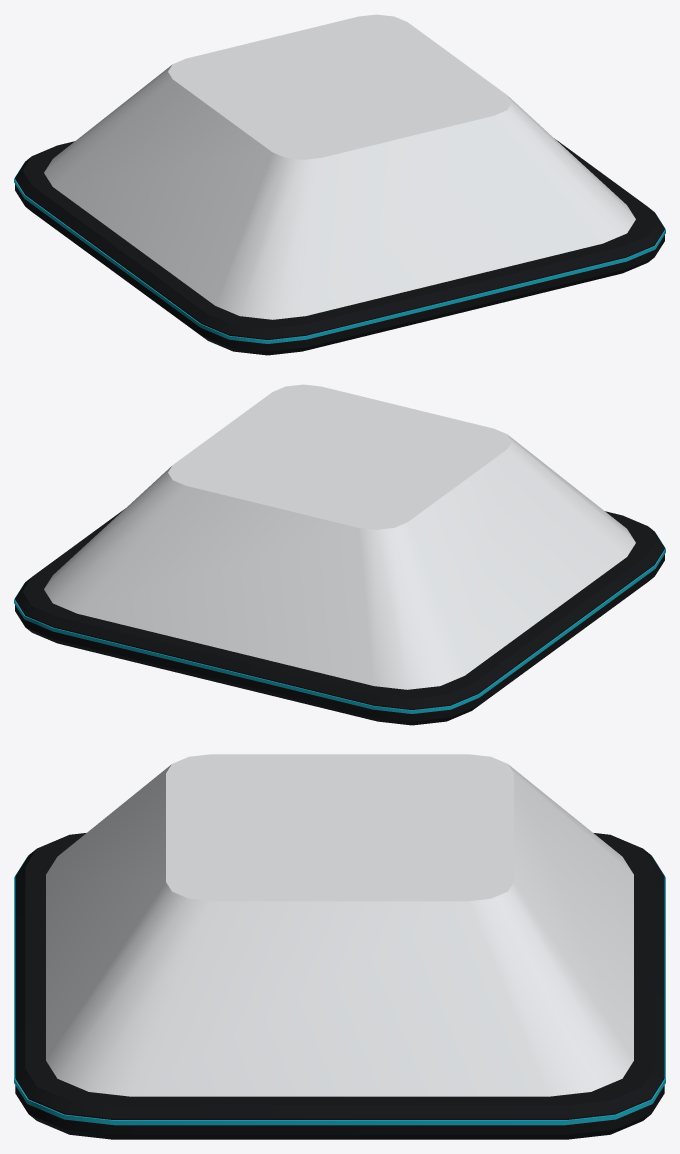
The model's file is n2_housing.obj.
3 renders of one model, top to bottom at view 1: azimuth 30°, elevation 25°; view 2: azimuth 150°, elevation 25°; view 3: azimuth 270°, elevation 25°, orthographic. The views are drawn at different scales.
Parts seen in each view (by area): view 1: n2_housing; view 2: n2_housing; view 3: n2_housing.
Part boxes in pixels (box(x1,y1,x2,y2)): n2_housing: box(14, 14, 665, 355); n2_housing: box(14, 384, 665, 725); n2_housing: box(14, 754, 665, 1139).
Size of the model in its own units: 2.06 by 0.585 by 1.99.
